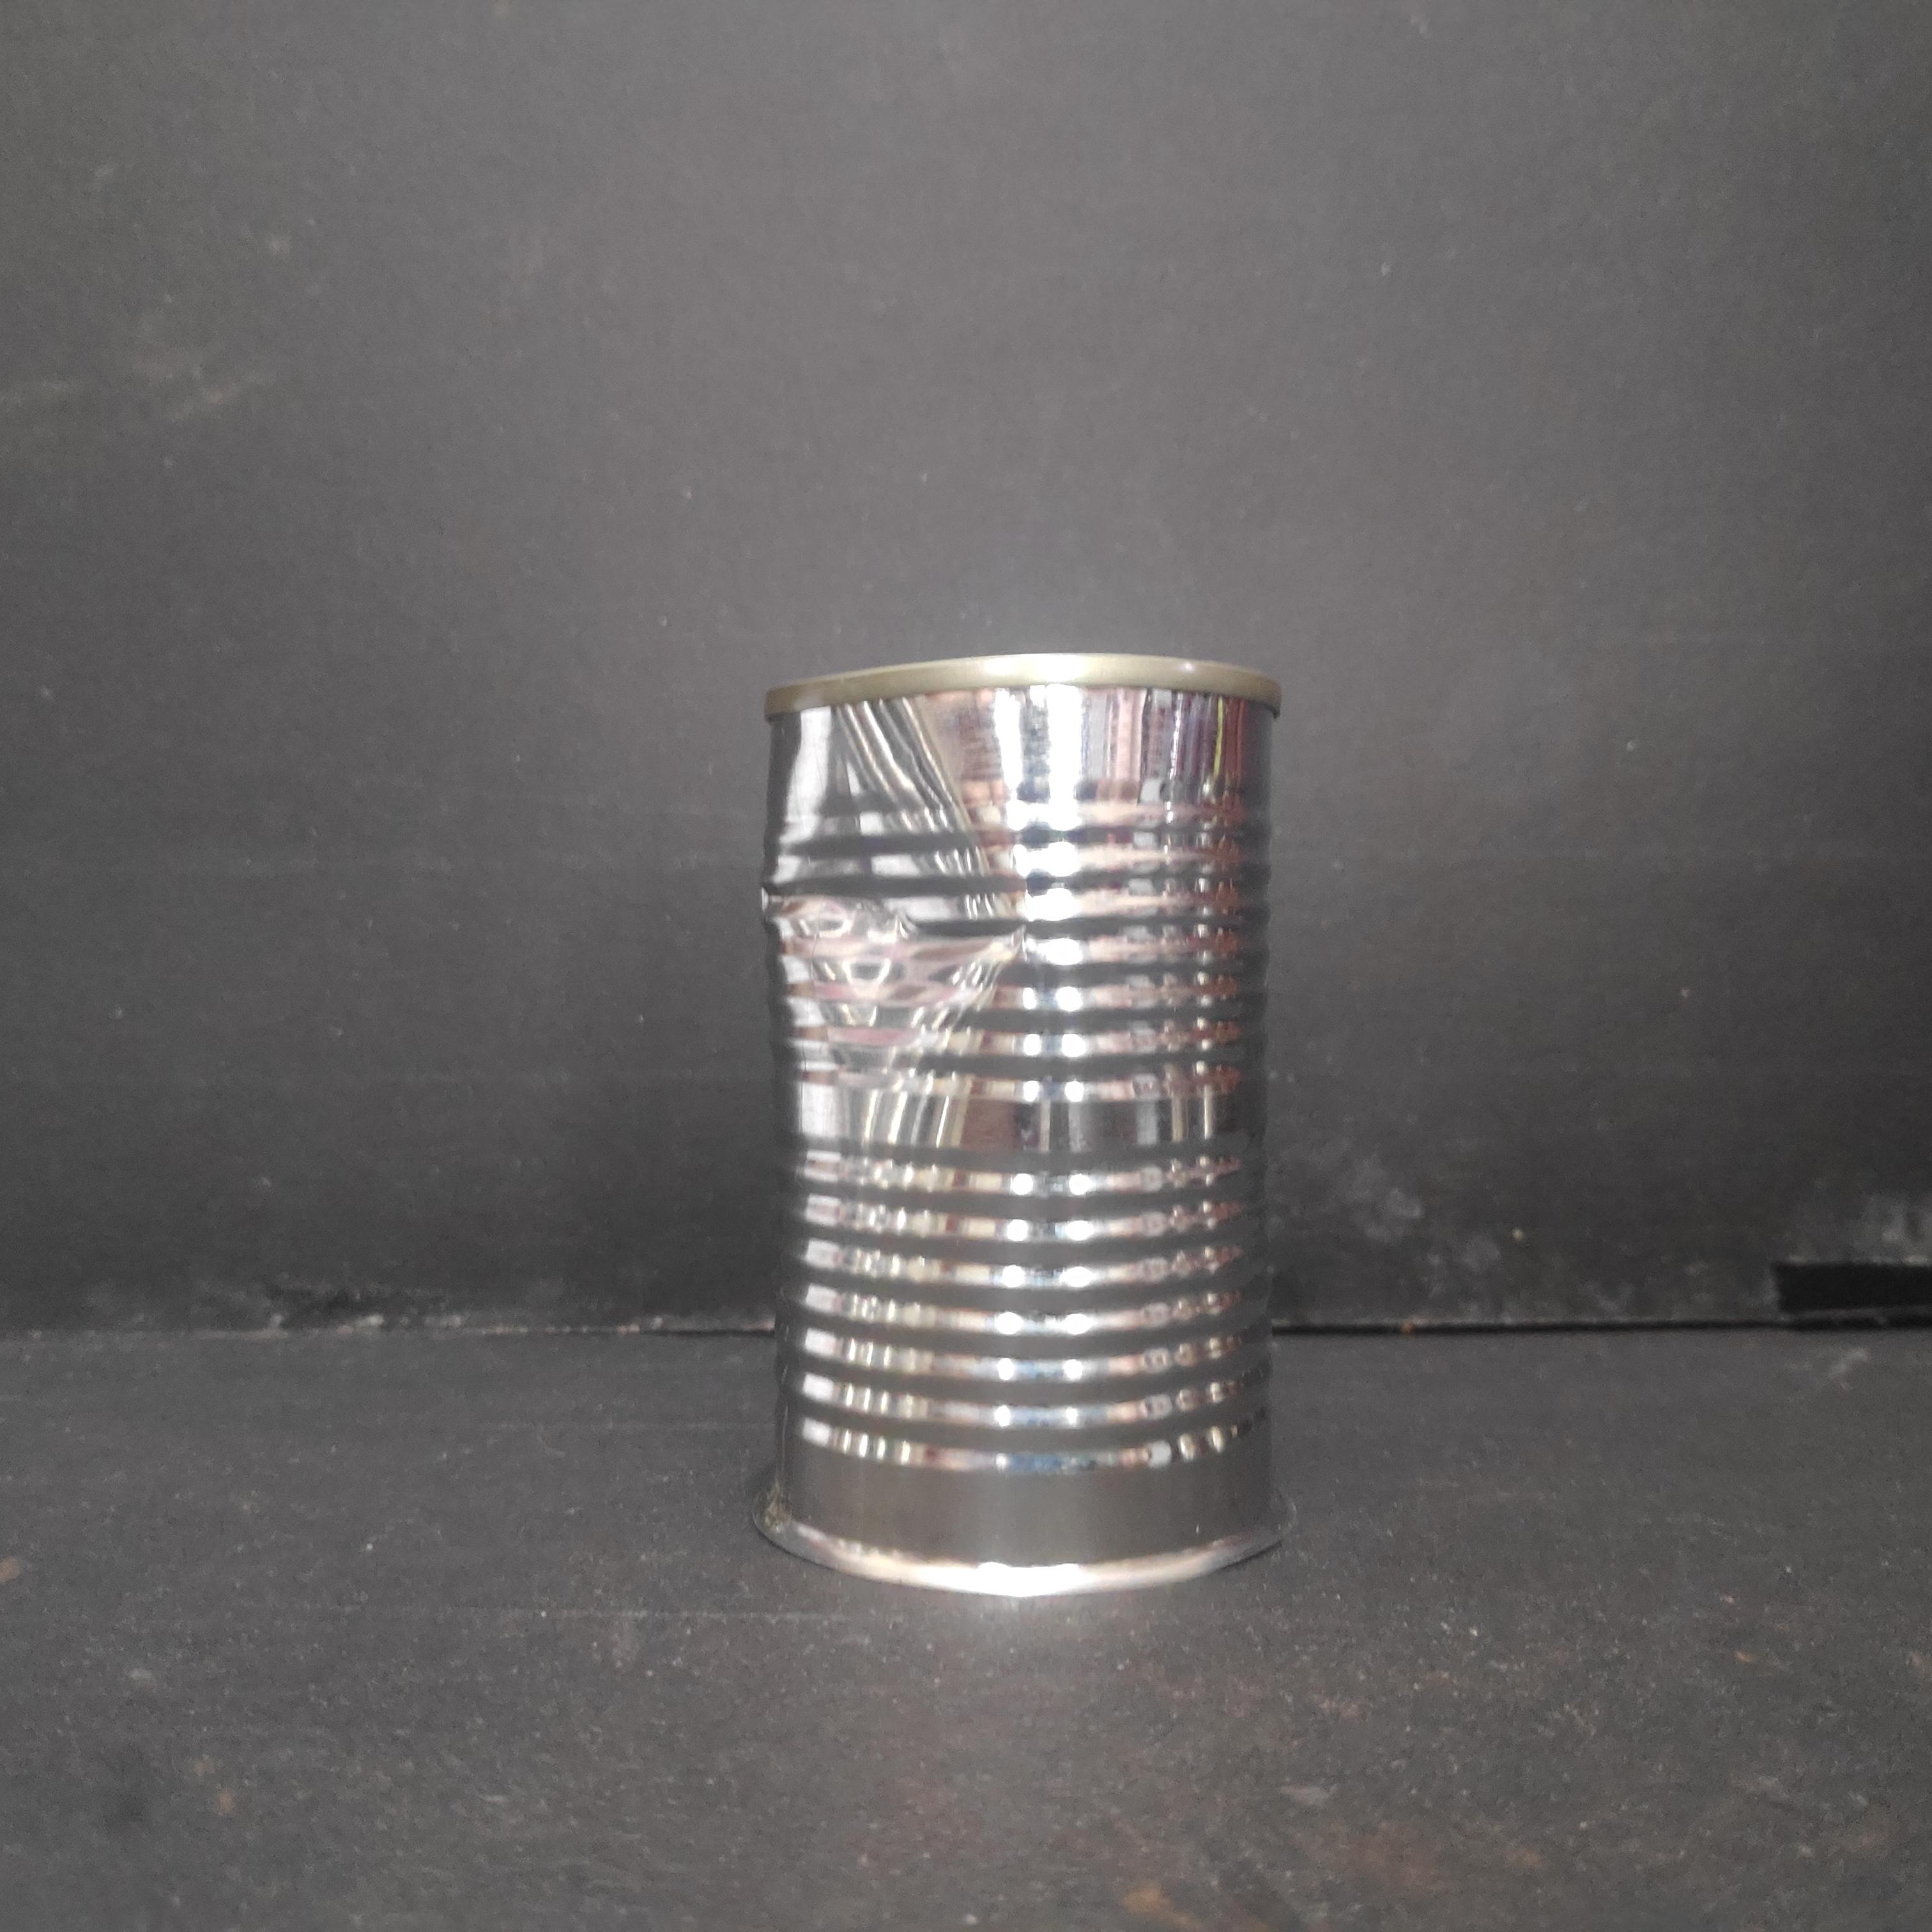Minor Defect: (752, 649, 1293, 1601)
